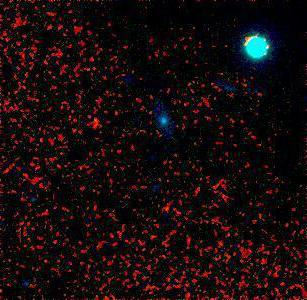star: (163, 110, 193, 140)
